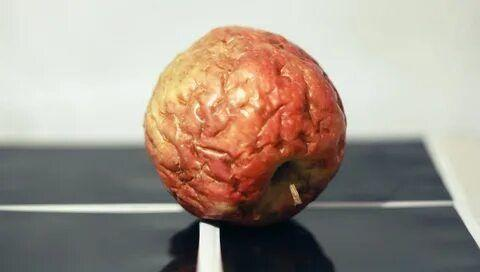Apple: (147, 26, 348, 226)
